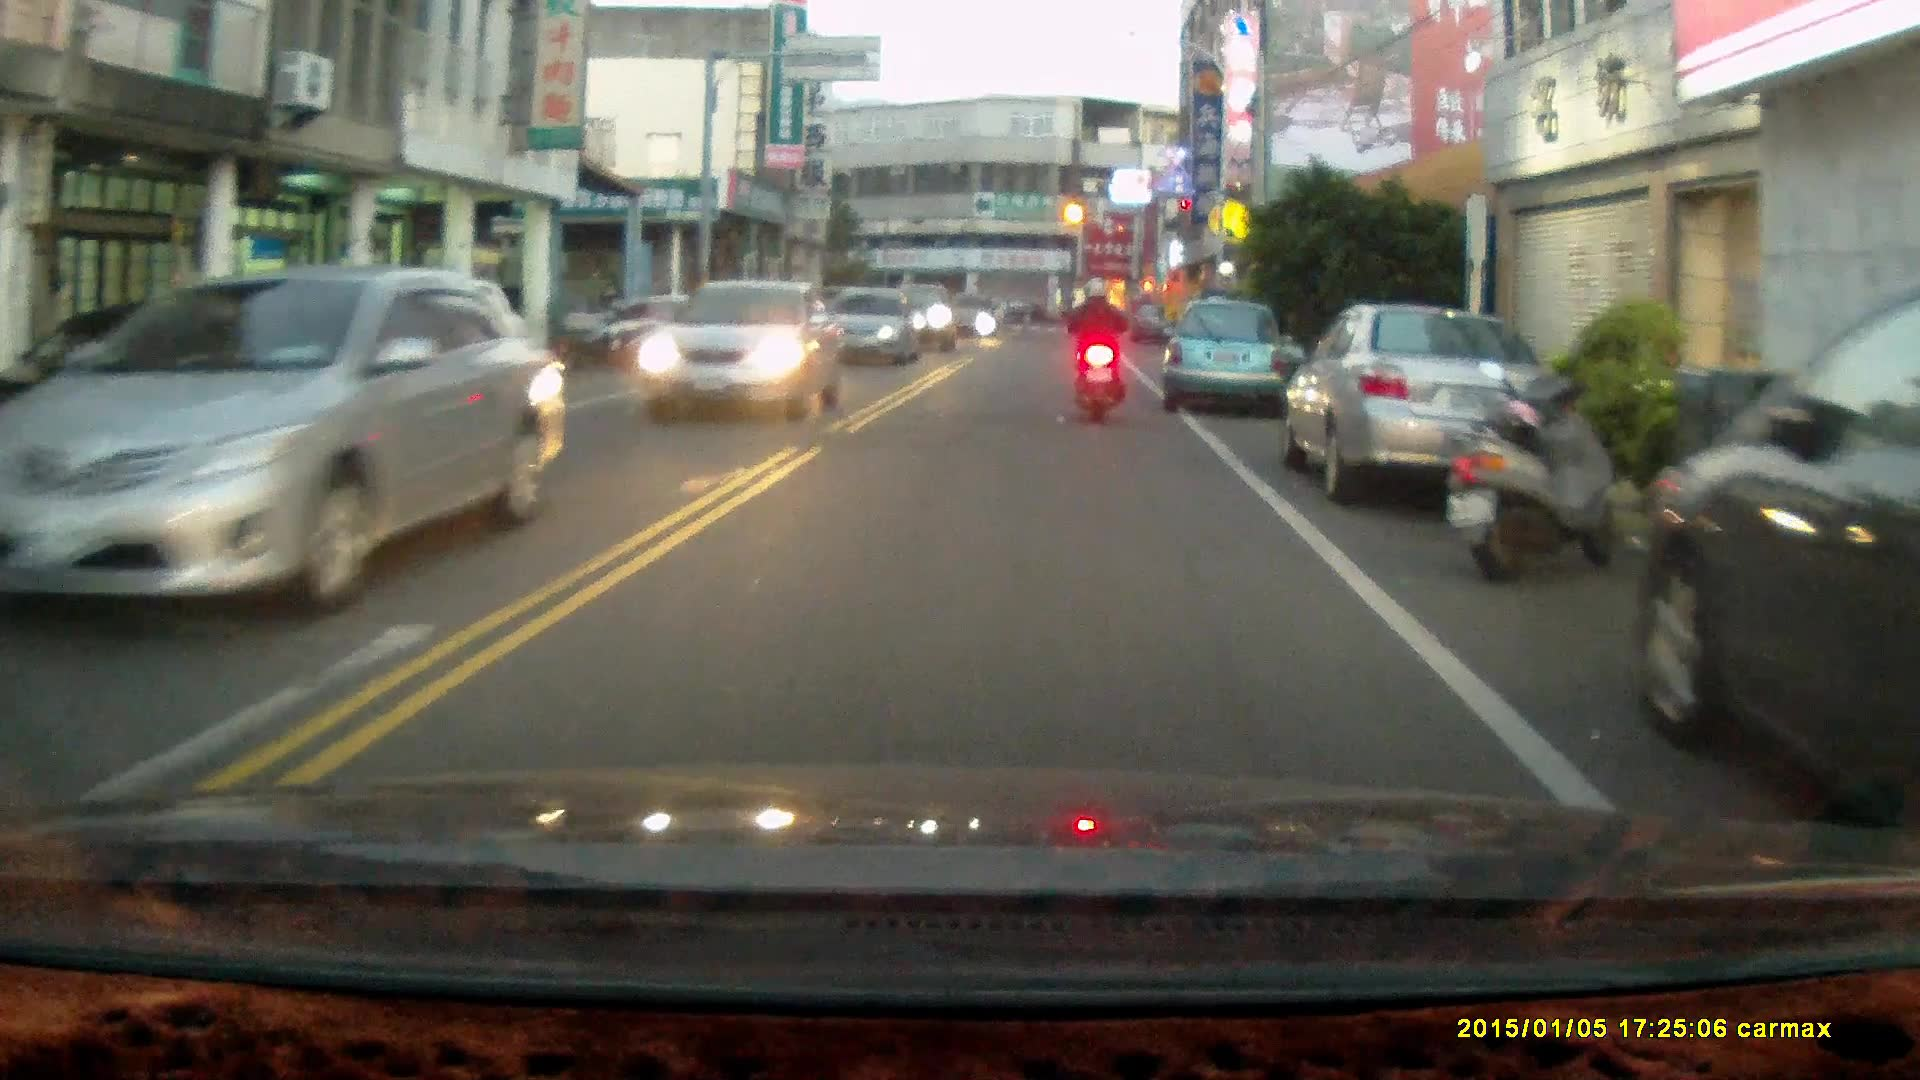rider: (1064, 274, 1124, 422)
vehicle: (1, 263, 560, 625), (1628, 287, 1920, 820), (1282, 300, 1555, 506), (635, 278, 843, 420), (1155, 298, 1291, 421), (814, 283, 926, 369)
